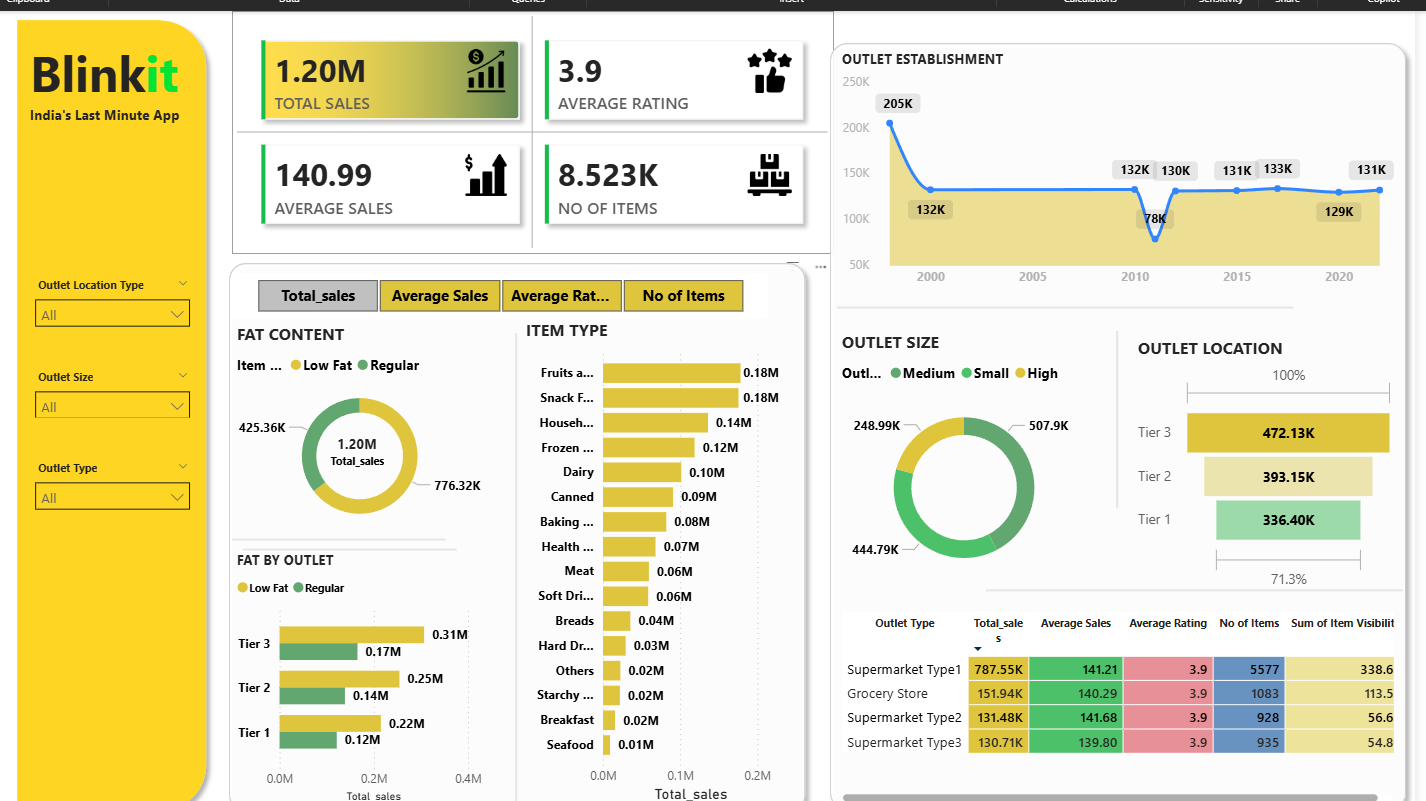

What the dashboard file says about the page in this screenshot:
{"tool":"powerbi","page":{"name":"Page 1","canvas":[1400,800],"ordinal":0},"visuals":[{"type":"shape","box":[10.3,0,205,799.9],"z":0},{"type":"textbox","box":[26.9,22.7,173.6,80.6],"z":1000},{"type":"textbox","box":[26.9,88.9,173.6,39.3],"z":2000},{"type":"cardVisual","fields":{"Data":["BlinkIT Grocery Data.Total_sales","BlinkIT Grocery Data.Average Rating","BlinkIT Grocery Data.Average Sales","BlinkIT Grocery Data.No of Items"]},"box":[231.5,0,593.8,240.4],"z":3000},{"type":"shape","box":[219.1,239.8,587,560.1],"z":4000},{"type":"donutChart","title":"FAT CONTENT","fields":{"Y":["BlinkIT Grocery Data.Total_sales"],"Category":["BlinkIT Grocery Data.Item Fat Content"]},"box":[231.5,308,252.2,212.9],"z":5000},{"type":"slicer","fields":{"Values":["Metrics.Metrics"]},"box":[231.5,258.4,529.1,45.5],"z":6000},{"type":"cardVisual","fields":{"Data":["BlinkIT Grocery Data.Total_sales"]},"box":[295.6,401,119.9,68.2],"z":7000},{"type":"clusteredBarChart","title":"FAT BY OUTLET","fields":{"Y":["BlinkIT Grocery Data.Total_sales"],"Category":["BlinkIT Grocery Data.Outlet Location Type"],"Series":["BlinkIT Grocery Data.Item Fat Content"]},"box":[231.5,533.3,252.2,252.2],"z":8000},{"type":"shape","box":[231.5,510.5,210.8,22.7],"z":9000},{"type":"shape","box":[508.5,318.3,6.2,481.6],"z":10000},{"type":"barChart","title":"ITEM TYPE","fields":{"Y":["BlinkIT Grocery Data.Total_sales"],"Category":["BlinkIT Grocery Data.Item Type"]},"box":[516.1,304,273.9,482.5],"z":11000},{"type":"shape","box":[813,23,586.8,775.9],"z":12000},{"type":"lineChart","title":"OUTLET ESTABLISHMENT","fields":{"Category":["BlinkIT Grocery Data.Outlet Establishment Year"],"Y":["BlinkIT Grocery Data.Total_sales"]},"box":[828.9,38.9,554.9,242.1],"z":13000},{"type":"donutChart","title":"OUTLET SIZE","fields":{"Y":["BlinkIT Grocery Data.Total_sales"],"Category":["BlinkIT Grocery Data.Outlet Size"]},"box":[828.9,316.4,251,259.8],"z":14000},{"type":"funnel","title":"OUTLET LOCATION","fields":{"Category":["BlinkIT Grocery Data.Outlet Location Type"],"Y":["BlinkIT Grocery Data.Total_sales"]},"box":[1120.5,321.7,263.3,254.5],"z":15000},{"type":"shape","box":[1090.5,316.4,30,175],"z":16000},{"type":"pivotTable","title":"OUTLET LOCATION","fields":{"Values":["BlinkIT Grocery Data.Total_sales","BlinkIT Grocery Data.Average Sales","BlinkIT Grocery Data.Average Rating","BlinkIT Grocery Data.No of Items","Sum(BlinkIT Grocery Data.Item Visibility)"],"Rows":["BlinkIT Grocery Data.Outlet Type"]},"box":[828.9,588.5,554.9,197.9],"z":17000},{"type":"shape","box":[241.5,520.5,210.8,22.7],"z":18000},{"type":"shape","box":[828.9,281,450.7,23],"z":19000},{"type":"shape","box":[975.6,558.5,411.8,28.3],"z":20000},{"type":"slicer","fields":{"Values":["BlinkIT Grocery Data.Outlet Location Type"]},"box":[26.5,258,173.2,76],"z":21000},{"type":"slicer","fields":{"Values":["BlinkIT Grocery Data.Outlet Size"]},"box":[26.5,348.2,173.2,53],"z":22000},{"type":"slicer","fields":{"Values":["BlinkIT Grocery Data.Outlet Type"]},"box":[26.5,438.3,173.2,72.5],"z":23000}]}

Visuals, with their boxes on the page's 1400x800 design canvas (x1, y1, x2, y2). These are canvas units, not pixel positions in the 1426x801 screenshot, which may show the page scaled, cropped or inside an application window:
shape: 10, 0, 215, 800
textbox: 27, 23, 200, 103
textbox: 27, 89, 200, 128
cardVisual - BlinkIT Grocery Data.Total_sales x BlinkIT Grocery Data.Average Rating: 232, 0, 825, 240
shape: 219, 240, 806, 800
"FAT CONTENT" donutChart: 232, 308, 484, 521
slicer - Metrics.Metrics: 232, 258, 761, 304
cardVisual - BlinkIT Grocery Data.Total_sales: 296, 401, 416, 469
"FAT BY OUTLET" clusteredBarChart: 232, 533, 484, 786
shape: 232, 510, 442, 533
shape: 508, 318, 515, 800
"ITEM TYPE" barChart: 516, 304, 790, 786
shape: 813, 23, 1400, 799
"OUTLET ESTABLISHMENT" lineChart: 829, 39, 1384, 281
"OUTLET SIZE" donutChart: 829, 316, 1080, 576
"OUTLET LOCATION" funnel: 1120, 322, 1384, 576
shape: 1090, 316, 1120, 491
"OUTLET LOCATION" pivotTable: 829, 588, 1384, 786
shape: 242, 520, 452, 543
shape: 829, 281, 1280, 304
shape: 976, 558, 1387, 587
slicer - BlinkIT Grocery Data.Outlet Location Type: 26, 258, 200, 334
slicer - BlinkIT Grocery Data.Outlet Size: 26, 348, 200, 401
slicer - BlinkIT Grocery Data.Outlet Type: 26, 438, 200, 511
